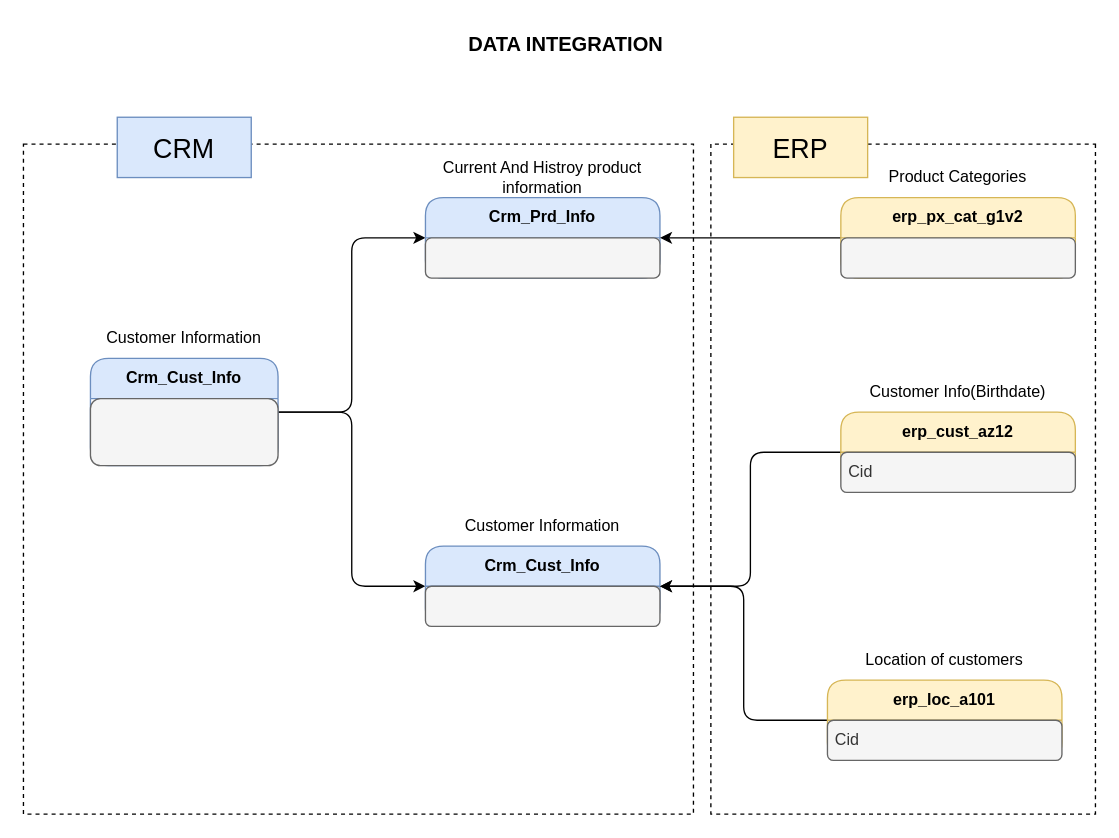
Image size: 1119x838. Some labels were removed from this diagram. Each missing label, with the box of its shape:
Cst_id cst_key: (424, 585, 660, 626)
Cst_id Prd_key: (89, 397, 278, 466)
id: (840, 237, 1075, 278)
Prd_key: (424, 237, 660, 278)
